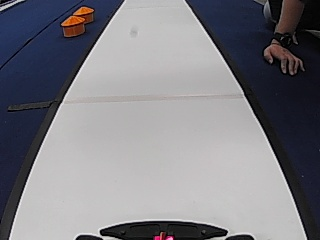granary: (60, 13, 85, 38), (73, 7, 94, 25)
